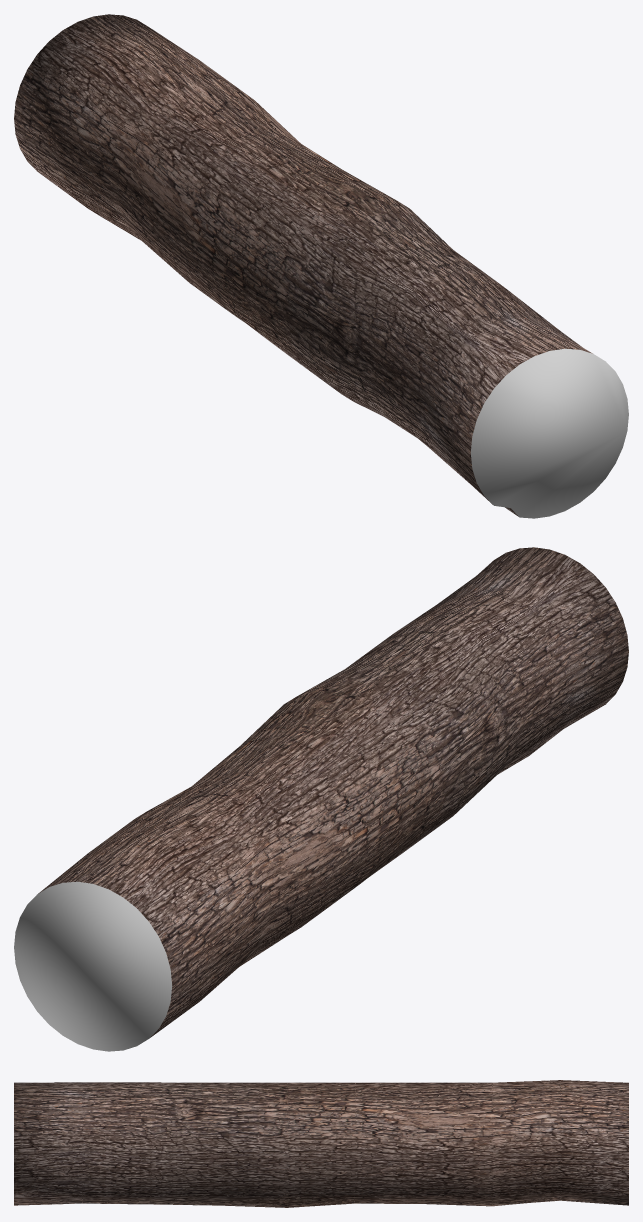
Rendered from WoodLog.fbx.
3 renders of one model, top to bottom at view 1: azimuth 30°, elevation 25°; view 2: azimuth 150°, elevation 25°; view 3: azimuth 270°, elevation 25°, orthographic. The views are drawn at different scales.
Visible parts, largest first — view 1: WoodLog; view 2: WoodLog; view 3: WoodLog.
Part boxes in pixels (x1,y1,x2,y2): WoodLog: [14, 14, 628, 518]; WoodLog: [14, 547, 628, 1051]; WoodLog: [14, 1080, 628, 1207].
Bounding box in the file's own units: 20.69 × 20.89 × 100.
